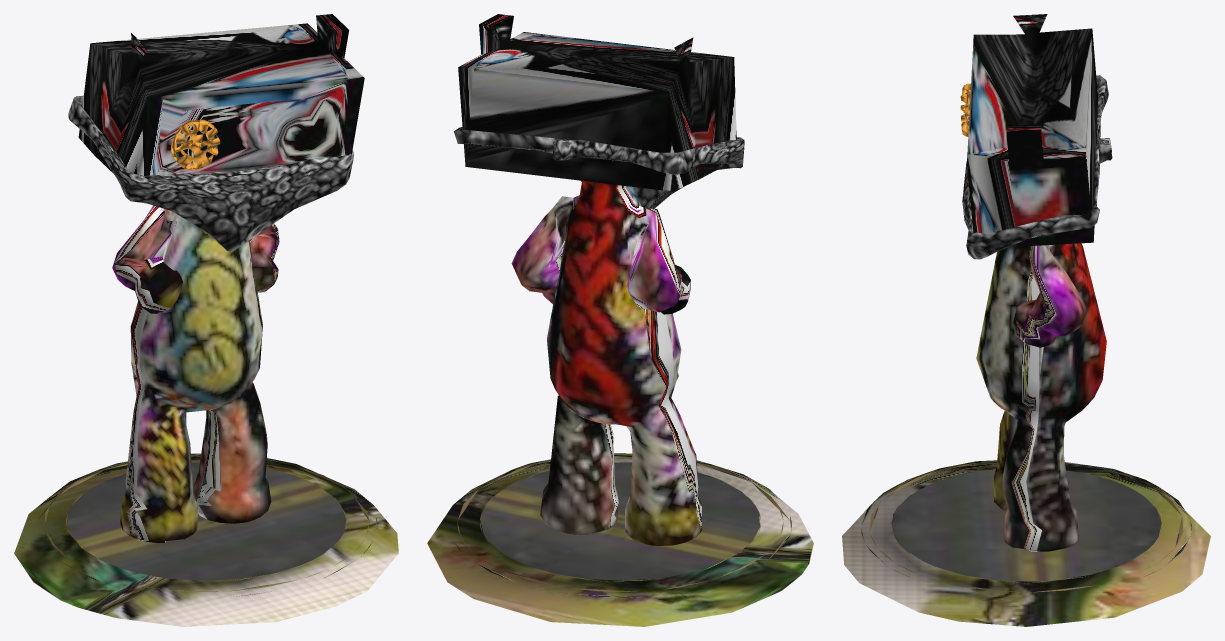
The picture shows the model from 3 angles, left to right: view 1: azimuth 30°, elevation 25°; view 2: azimuth 150°, elevation 25°; view 3: azimuth 270°, elevation 25°; orthographic projection. The views are drawn at different scales.
Size of the model in its own units: 1.45 by 2.16 by 1.43.
6 materials, 6 textured.
